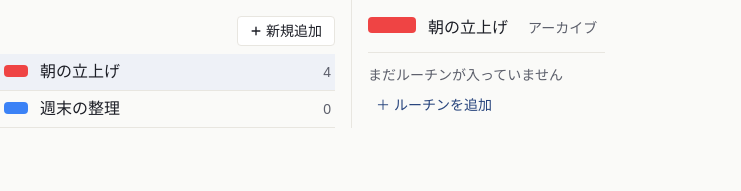
Test: BundlesBoard（画面定義書05: 左ペインの一覧・作成・アーカイブ・削除／右ペインのヘッダ） › 保存境界の共有（00_共通 §4.2） › 左ペイン・ヘッダのエラーは、そのペインで新しい編集を始めると消える
This screenshot has width=741, height=191.
Click the button "アーカイブ": point(563, 28) [520,18,605,38]
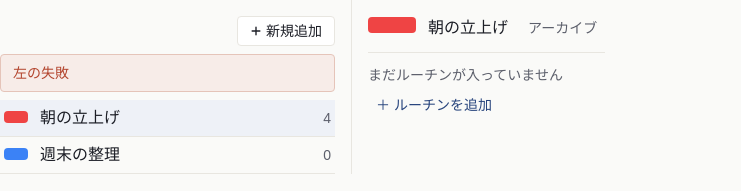
Expected: the text "左の失敗" is shown, [0,54,335,92]
Click the 1st button "朝の立上げ": point(468, 28) [428,16,508,40]
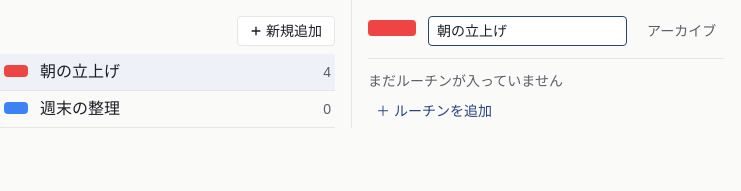
Expected: the text "左の失敗" is gone
